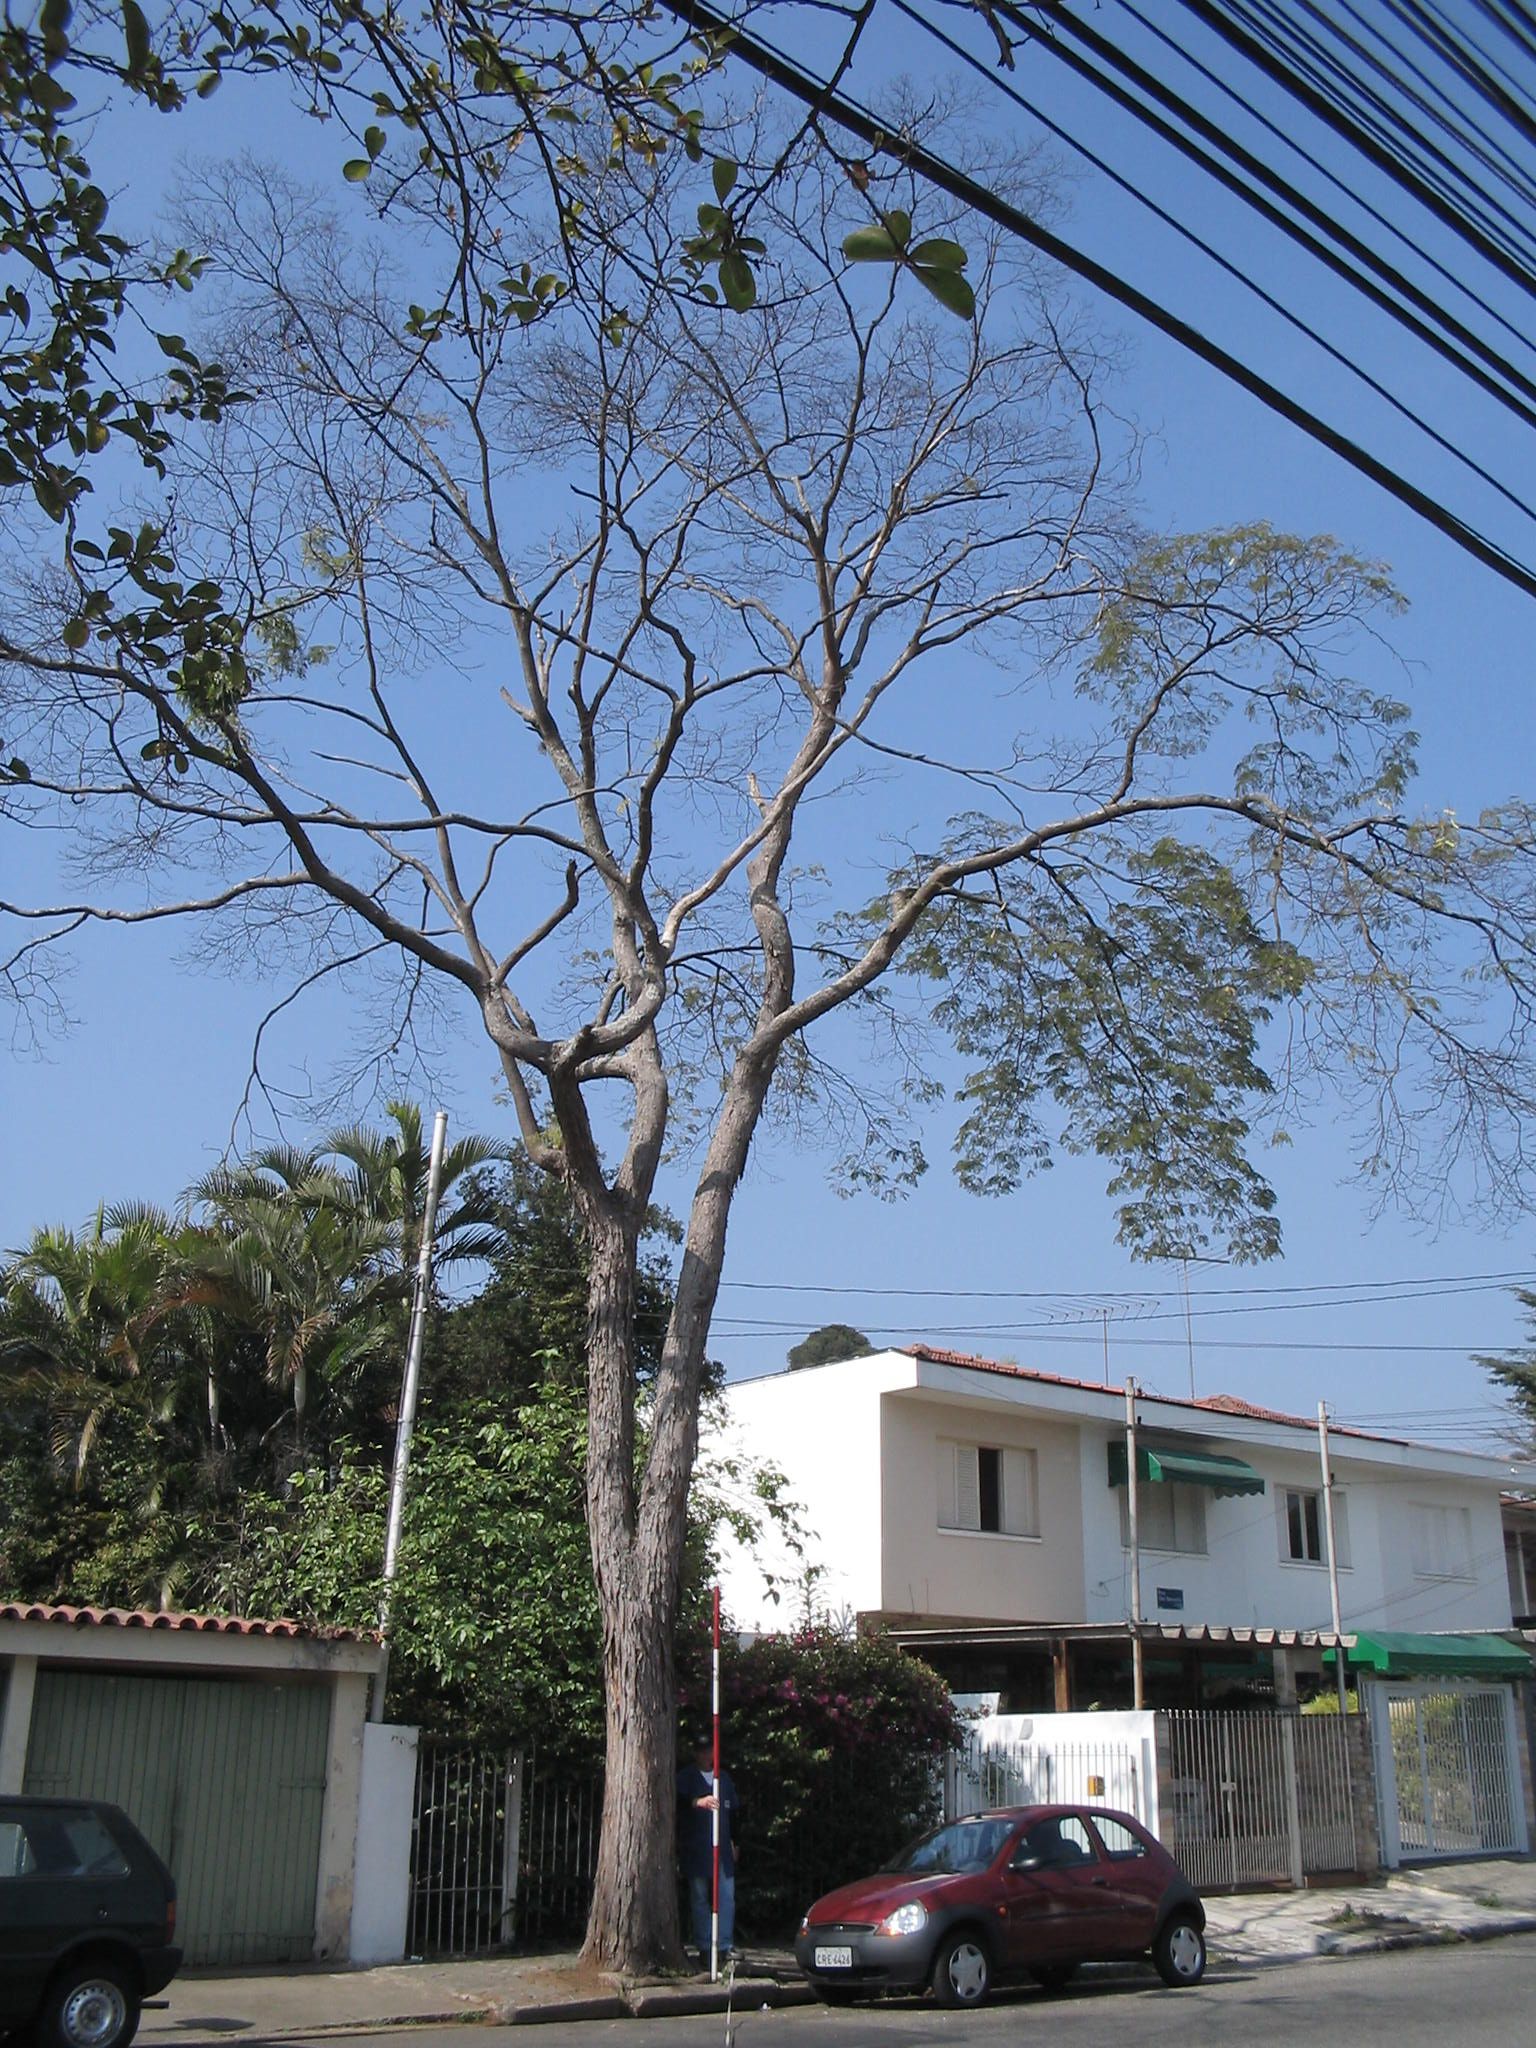stem: (544, 1545, 703, 1974)
stick: (686, 1590, 752, 1982)
tree: (11, 16, 1536, 1979)
